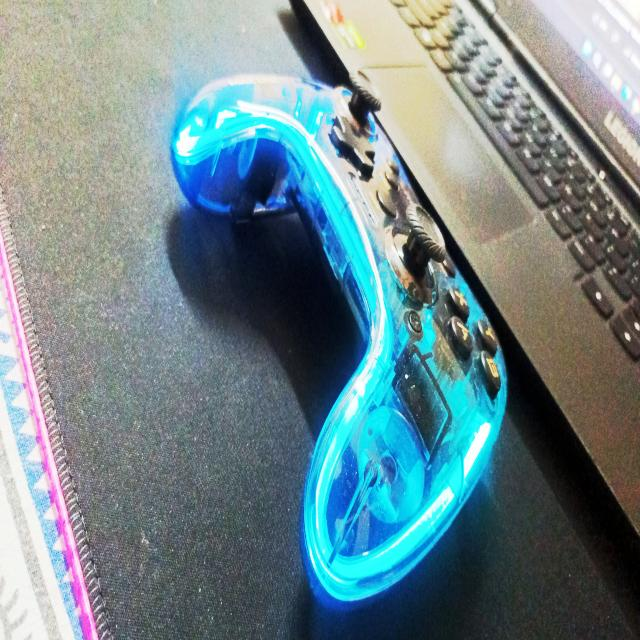gamepad: (169, 70, 509, 606)
